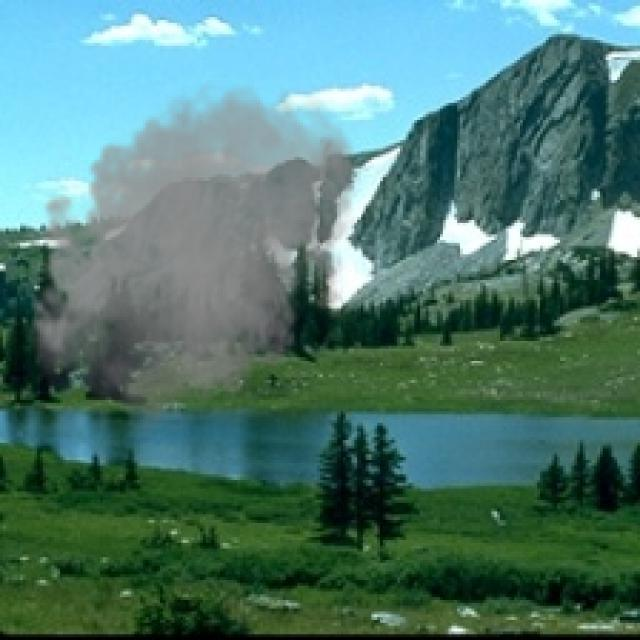Smoke: (20, 74, 363, 443)
